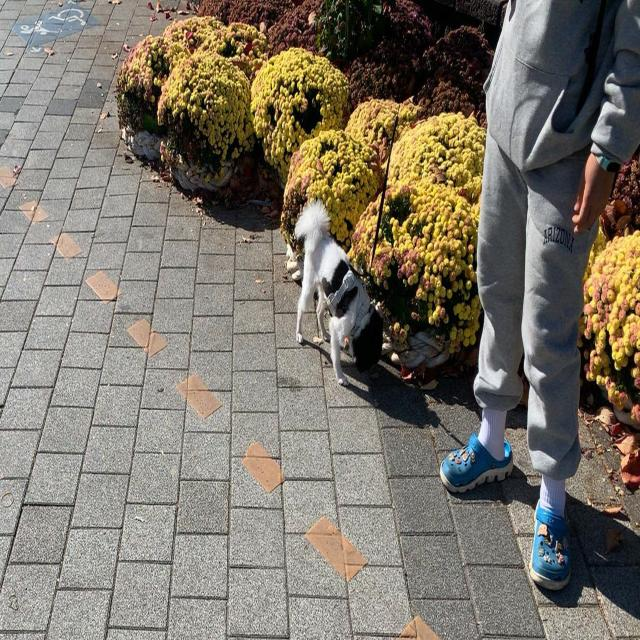Leashed_Dog: (295, 0, 566, 388)
